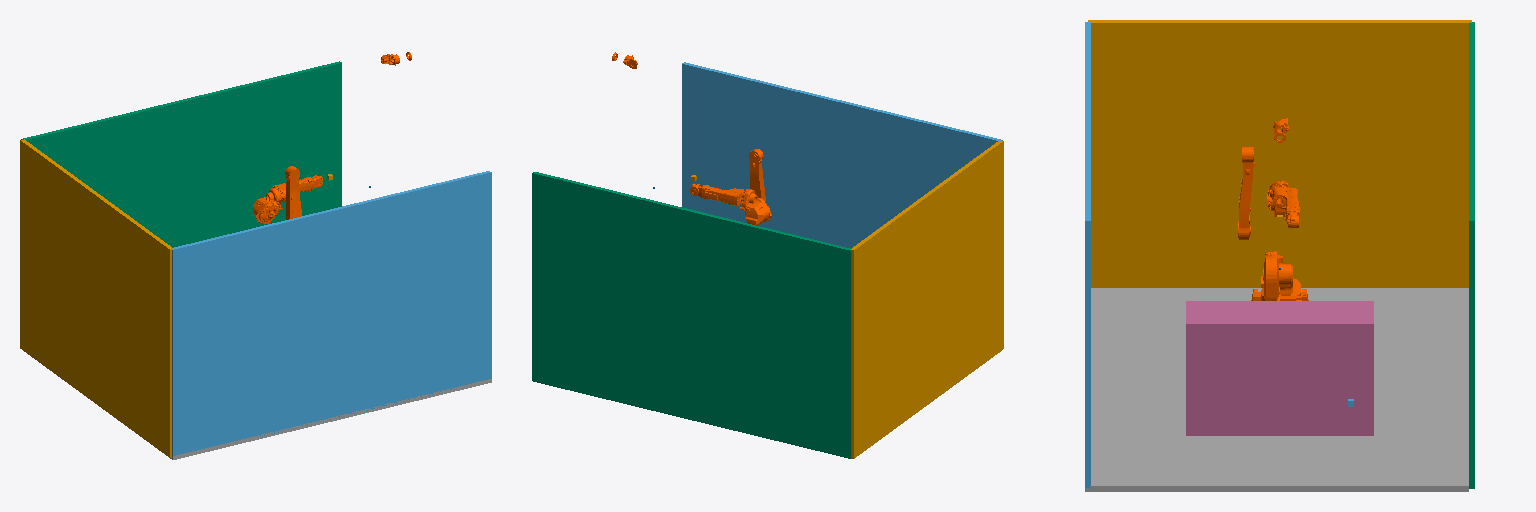
The robot description file, URDF, robot "irb1660_6_155":
<?xml version="1.0" ?>

<robot name="irb1660_6_155" xmlns:xacro="http://ros.org/wiki/xacro">
 
  <!-- robot link list -->
  <link name="base_link">
    <visual>
      <origin rpy="0 0 0" xyz="0 0 0"/>
      <geometry>
        <mesh filename="package://abb_irb1660_support/meshes/base_link.stl"/>
      </geometry>
      <material name="abb_orange">
        <color rgba="1 0.43 0 1"/>
      </material>
    </visual>
    <collision>
      <geometry>
        <mesh filename="package://abb_irb1660_support/meshes/base_link.stl"/>
      </geometry>
      <material name="yellow">
        <color rgba="0 1 1 1"/>
      </material>
    </collision>
  </link>
  <link name="link_1">
    <visual>
      <origin rpy="0 0 0" xyz="0 0 0"/>
      <geometry>
        <mesh filename="package://abb_irb1660_support/meshes/link_1.stl"/>
      </geometry>
      <material name="abb_orange"/>
    </visual>
    <collision>
      <origin rpy="0 0 0" xyz="0 0 0"/>
      <geometry>
        <mesh filename="package://abb_irb1660_support/meshes/link_1.stl"/>
      </geometry>
      <material name="yellow"/>
    </collision>
  </link>
  <link name="link_2">
    <visual>
      <origin rpy="0 0 0" xyz="0 0 0"/>
      <geometry>
        <mesh filename="package://abb_irb1660_support/meshes/link_2.stl"/>
      </geometry>
      <material name="abb_orange"/>
    </visual>
    <collision>
      <origin rpy="0 0 0" xyz="0 0 0"/>
      <geometry>
        <mesh filename="package://abb_irb1660_support/meshes/link_2.stl"/>
      </geometry>
      <material name="yellow"/>
    </collision>
  </link>
  <link name="link_3">
    <visual>
      <origin rpy="0 0 0" xyz="0 0 0"/>
      <geometry>
        <mesh filename="package://abb_irb1660_support/meshes/link_3.stl"/>
      </geometry>
      <material name="abb_orange"/>
    </visual>
    <collision>
      <origin rpy="0 0 0" xyz="0 0 0"/>
      <geometry>
        <mesh filename="package://abb_irb1660_support/meshes/link_3.stl"/>
      </geometry>
      <material name="yellow"/>
    </collision>
  </link>
  <link name="link_4">
    <visual>
      <origin rpy="0 0 0" xyz="0 0 0"/>
      <geometry>
        <mesh filename="package://abb_irb1660_support/meshes/link_4.stl"/>
      </geometry>
      <material name="abb_orange"/>
    </visual>
    <collision>
      <origin rpy="0 0 0" xyz="0 0 0"/>
      <geometry>
        <mesh filename="package://abb_irb1660_support/meshes/link_4.stl"/>
      </geometry>
      <material name="yellow"/>
    </collision>
  </link>
  <link name="link_5">
    <visual>
      <origin rpy="0 0 0" xyz="0 0 0"/>
      <geometry>
        <mesh filename="package://abb_irb1660_support/meshes/link_5.stl"/>
      </geometry>
      <material name="abb_orange"/>
    </visual>
    <collision>
      <origin rpy="0 0 0" xyz="0 0 0"/>
      <geometry>
        <mesh filename="package://abb_irb1660_support/meshes/link_5.stl"/>
      </geometry>
      <material name="yellow"/>
    </collision>
  </link>
  <link name="link_6">
    <visual>
      <origin rpy="0 0 0" xyz="0 0 0"/>
      <geometry>
        <mesh filename="package://abb_irb1660_support/meshes/link_6.stl"/>
      </geometry>
      <material name="abb_orange"/>
    </visual>
    <collision>
      <origin rpy="0 0 0" xyz="0 0 0"/>
      <geometry>
        <mesh filename="package://abb_irb1660_support/meshes/link_6.stl"/>
      </geometry>
      <material name="yellow"/>
    </collision>
  </link>

  <!-- tool link list -->
  <link name="tool0">
  <visual>
      <origin rpy="0 0 0" xyz="0 0 0"/>
      <geometry>
        <mesh filename="package://abb_irb1660_support/meshes/tools/tool_sks_FP8i-L.stl"/>
      </geometry>
      <material name="abb_orange"/>
    </visual>
    <collision>
      <origin rpy="0 0 0" xyz="0 0 0"/>
      <geometry>
        <mesh filename="package://abb_irb1660_support/meshes/tools/tool_sks_FP8i-L.stl"/>
      </geometry>
      <material name="yellow"/>
    </collision>
  </link>

  <!-- camera link list -->
  <link name="mounted_camera_link">
  <visual>
    <origin rpy="0 0 0" xyz="0 0 0"/>
    <geometry>
      <box size="0.05 0.05 0.05"/>
    </geometry>
    </visual>
    <material name="Cyan">
      <color rgba="0 1.0 0 1.0"/>
    </material>
  </link>
  <link name="external_camera_link">
  <visual>
    <origin rpy="0 0 0" xyz="0 0 0"/>
    <geometry>
      <box size="0.05 0.05 0.05"/>
    </geometry>
    </visual>
    <material name="Cyan">
      <color rgba="0 1.0 0 1.0"/>
    </material>
  </link>
  <link name="mounted_camera_optical_frame">
  <visual>
      <origin rpy="0 0 0" xyz="0.0 0.0 0"/>
      <geometry>
        <sphere radius="0.005"/>
      </geometry>
    </visual>
  </link>
  <link name="external_camera_optical_frame">
  <visual>
      <origin rpy="0 0 0" xyz="0.0 0.0 0"/>
      <geometry>
        <sphere radius="0.005"/>
      </geometry>
    </visual>
  </link>
  <link name="led_link">
  <visual>
      <origin rpy="0 0 0" xyz="0 0 -0.050"/>
      <geometry>
        <sphere radius="0.01"/>
      </geometry>
    </visual>
  </link>
  <!-- end of link list -->

  <!-- robot joint list -->
  <joint name="joint_1" type="revolute">
    <origin rpy="0 0 0" xyz="0 0 0.124"/>
    <parent link="base_link"/>
    <child link="link_1"/>
    <axis xyz="0 0 1"/>
    <limit effort="0" lower="-3.14159" upper="3.14159" velocity="3.14159"/>
  </joint>
  <joint name="joint_2" type="revolute">
    <origin rpy="0 0 0" xyz="0.15 -0.107 0.3625"/>
    <parent link="link_1"/>
    <child link="link_2"/>
    <axis xyz="0 1 0"/>
    <limit effort="0" lower="-1.5708" upper="2.61799" velocity="3.14159"/>
  </joint>
  <joint name="joint_3" type="revolute">
    <origin rpy="0 0 0" xyz="0 0 0.7"/>
    <parent link="link_2"/>
    <child link="link_3"/>
    <axis xyz="0 1 0"/>
    <limit effort="0" lower="-4.15388" upper="1.37881" velocity="3.14159"/>
  </joint>
  <joint name="joint_4" type="revolute">
    <origin rpy="0 0 0" xyz="0.128 0.107 0.108"/>
    <parent link="link_3"/>
    <child link="link_4"/>
    <axis xyz="1 0 0"/>
    <limit effort="0" lower="-3.05433" upper="3.05433" velocity="5.58505"/>
  </joint>
  <joint name="joint_5" type="revolute">
    <origin rpy="0 0 0" xyz="0.55 0 0"/>
    <parent link="link_4"/>
    <child link="link_5"/>
    <axis xyz="0 1 0"/>
    <limit effort="0" lower="-2.0944" upper="2.0944" velocity="6.28319"/>
  </joint>
  <joint name="joint_6" type="revolute">
    <origin rpy="0.0 0 0" xyz="0.135 0 0"/>
    <parent link="link_5"/>
    <child link="link_6"/>
    <axis xyz="1 0 0"/>
    <limit effort="0" lower="-6.98132" upper="6.98132" velocity="8.72665"/>
  </joint>

  <!-- tool joint list -->
  <joint name="joint_6-tool0" type="fixed">
    <parent link="link_6"/>
    <child link="tool0"/>
    <origin rpy="0 0 0" xyz="0 0 0"/>
  </joint>
  
  
  <!-- camera joint list -->
  <joint name="mounted_camera_joint" type="fixed">
    <origin rpy="0 0 0" xyz="0.095 0 0.075"/>
    <parent link="link_5" />
    <child link="mounted_camera_link" />
  </joint>
  <joint name="mounted_camera_optical_joint" type="fixed">
    <origin rpy="0 0 0" xyz="0.010 0 0.010"/>
    <parent link="mounted_camera_link" />
    <child link="mounted_camera_optical_frame" />
  </joint>
  <joint name="external_camera_joint" type="fixed">
    <origin rpy="0 0 4.75" xyz="2.439 0.60 0.354"/>
    <parent link="base_link" />
    <child link="external_camera_link" />
  </joint>
  <joint name="external_camera_optical_joint" type="fixed">
    <origin rpy="0 0 0" xyz="0.010 0 0.010"/>
    <parent link="external_camera_link" />
    <child link="external_camera_optical_frame" />
  </joint>
  <joint name="led_joint" type="fixed">
    <origin rpy="0 0 0" xyz="0.463 0.0 -0.110"/>
    <parent link="tool0" />
    <child link="led_link" />
  </joint>

  <!-- end of joint list -->


  <!-- object placement -->
  <!-- object link list -->
  <link name="front_of_cel_link"/>

  <link name="external_axis_object">
    <visual>
      <origin rpy="0 0 0" xyz="0 0 0"/>
      <geometry>
        <box size="0.45 1.60 1.05"/>
      </geometry>
    </visual>
    <material name="Blue">
      <color rgba="0 0 1.0 1.0"/>
    </material>
    <collision>
      <origin rpy="0 0 0" xyz="0 0 0"/>
      <geometry>
        <box size="0.45 1.60 1.05"/>
      </geometry>
      <material name="Blue"/>
    </collision>
  </link>

   <link name="ground_object">
    <visual>
      <origin rpy="1.5708 0 0" xyz="0 -0.025 0"/>
      <geometry>
        <box size="4 0.05 3.25"/>
      </geometry>
    </visual>
    <material name="Cyan">
      <color rgba="0 255 0 0.3"/>
    </material>
    <collision>
      <origin rpy="1.5708  0 0" xyz="0 -0.025 0"/>
      <geometry>
        <box size="4 0.05 3.25"/>
      </geometry>
      <material name="Cyan">
      <color rgba="0 255 0 0.3"/>
    </material>
    </collision>
  </link>
   
  <link name="wall_back_object">
    <visual>
      <origin rpy="0 0 1.5708" xyz="0 0 1.25"/>
      <geometry>
        <box size="3.25 0.05 2.5"/>
      </geometry>
    </visual>
    <material name="Cyan">
      <color rgba="0 255 0 0.3"/>
    </material>
    <collision>
      <origin rpy="0 0 1.5708" xyz="0 0 1.25"/>
      <geometry>
        <box size="3.25 0.05 2.5"/>
      </geometry>
      <material name="Cyan">
      <color rgba="0 255 0 0.3"/>
    </material>
    </collision>
  </link>
  
  <link name="wall_left_object">
    <visual>
      <origin rpy="0 0 0" xyz="-2 0 1.25"/>
      <geometry>
        <box size="4 0.05 2.5"/>
      </geometry>
    </visual>
    <material name="Cyan">
      <color rgba="0 255 0 0.3"/>
    </material>
    <collision>
      <origin rpy="0 0 0" xyz="-2 0 1.25"/>
      <geometry>
        <box size="4 0.05 2.5"/>
      </geometry>
      <material name="Cyan">
      <color rgba="0 255 0 0.3"/>
    </material>
    </collision>
  </link>

  <link name="wall_right_object">
    <visual>
      <origin rpy="0 0 0" xyz="-2 0 1.25"/>
      <geometry>
        <box size="4 0.05 2.5"/>
      </geometry>
    </visual>
    <material name="Cyan">
      <color rgba="0 255 0 0.3"/>
    </material>
    <collision>
      <origin rpy="0 0 0" xyz="-2 0 1.25"/>
      <geometry>
        <box size="4 0.05 2.5"/>
      </geometry>
      <material name="Cyan">
      <color rgba="0 255 0 0.3"/>
    </material>
    </collision>
  </link>

  <!--object joint list -->
  <joint name="front_of_cel_joint" type="fixed">
    <origin rpy="0 0 0" xyz="2 0 -0.655"/>
    <parent link="base_link" />
    <child link="front_of_cel_link" />
  </joint>

  <joint name="external_axis_joint" type="fixed">
    <origin rpy="0 0 0" xyz="0.993 0 0"/>
    <parent link="base_link" />
    <child link="external_axis_object" />
  </joint>

  <joint name="ground_joint" type="fixed">
    <origin rpy="0 0 0" xyz="-2 0 0"/>
    <parent link="front_of_cel_link" />
    <child link="ground_object" />
  </joint>
  
  <joint name="front_to_back_wall_joint" type="fixed">
    <origin rpy="0 0 0" xyz="-4 0 0"/>
    <parent link="front_of_cel_link" />
    <child link="wall_back_object" />
  </joint>
  
  <joint name="front_to_left_wall_joint" type="fixed">
    <origin rpy="0 0 0" xyz="0 -1.625 0"/>
    <parent link="front_of_cel_link" />
    <child link="wall_left_object" />
  </joint>
  
  <joint name="front_to_right_wall_joint" type="fixed">
    <origin rpy="0 0 0" xyz="0 1.625 0"/>
    <parent link="front_of_cel_link" />
    <child link="wall_right_object" />
  </joint>
  <!--end of object placement -->
  
</robot>

--- Render facts (derived) ---
Views: 3 orthographic renders of the robot side by side, from view 1: azimuth 30°, elevation 25°; view 2: azimuth 150°, elevation 25°; view 3: azimuth 270°, elevation 25°.
Model irb1660_6_155 with 19 links and 18 joints (6 revolute, 12 fixed), rooted at base_link, posed every joint at zero.
Links seen in each view (by area): view 1: wall_left_object, wall_right_object, wall_back_object, ground_object, link_3, link_2; view 2: wall_right_object, wall_left_object, wall_back_object, link_3, link_4, link_2; view 3: wall_back_object, ground_object, external_axis_object, wall_right_object, wall_left_object, link_1, link_2, link_4.
Boxes of the visible links, x1,y1,x2,y2 form: wall_left_object: (172, 171, 491, 457); wall_right_object: (21, 61, 341, 247); wall_back_object: (20, 139, 173, 457); ground_object: (28, 354, 491, 459); link_3: (253, 188, 283, 223); link_2: (285, 166, 301, 219); wall_right_object: (532, 172, 851, 458); wall_left_object: (682, 62, 1002, 248); wall_back_object: (851, 141, 1003, 458); link_3: (740, 189, 771, 225); link_4: (690, 183, 743, 206); link_2: (749, 149, 765, 201); wall_back_object: (1088, 20, 1471, 287); ground_object: (1085, 288, 1468, 491); external_axis_object: (1186, 301, 1373, 435); wall_right_object: (1469, 22, 1474, 488); wall_left_object: (1085, 22, 1090, 488); link_1: (1261, 251, 1302, 300); link_2: (1238, 147, 1254, 239); link_4: (1270, 187, 1299, 228).
Bounding box of the posed robot: 4.49 × 3.3 × 3.33 m (x, y, z).
7 mesh visuals loaded from 8 distinct referenced files (4 binary STL, 3 ASCII STL); not drawn: 1 (reference not matched to a file when rendering).